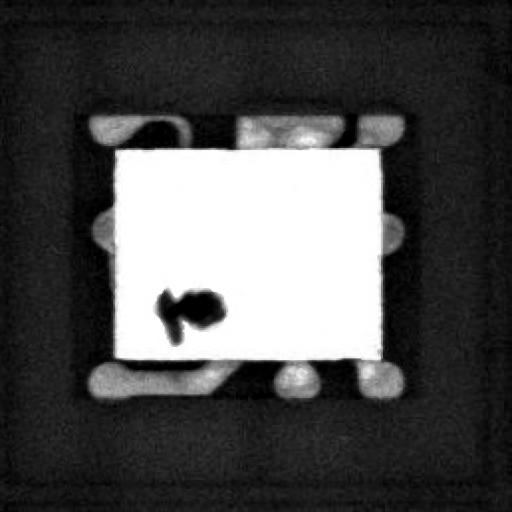DIE_INK: (144, 298, 214, 359)
